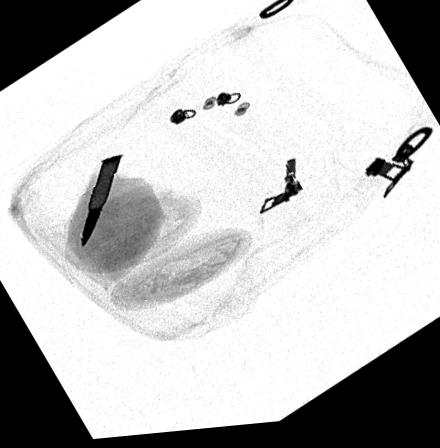Bullet: (78, 154, 124, 250)
